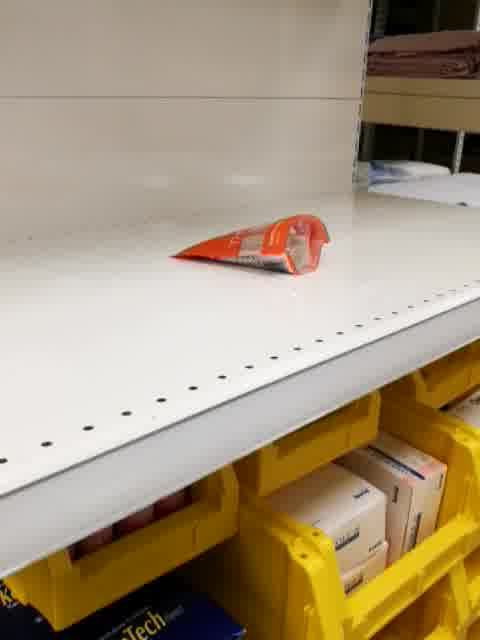whitechia: (168, 210, 333, 280)
